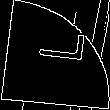L_W: (26, 37, 84, 73)
